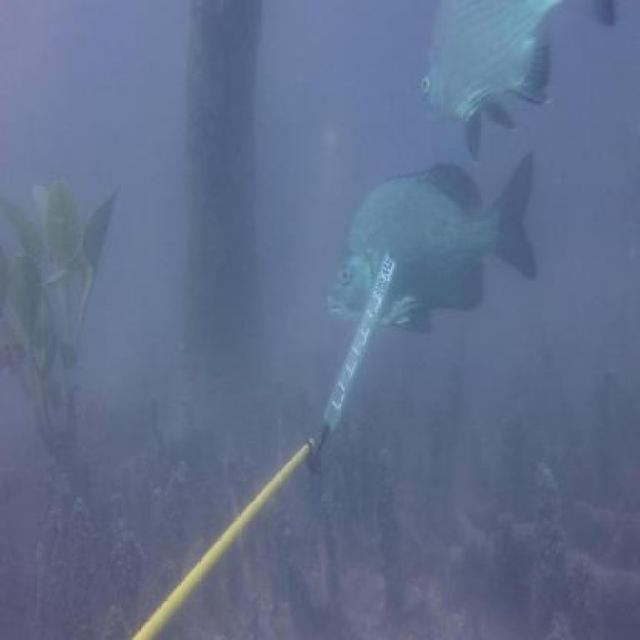acanthopagrus_palmaris: (325, 153, 544, 339), (416, 0, 561, 155)
